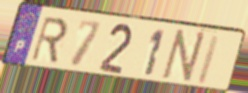1: (145, 29, 166, 79)
2: (97, 23, 133, 76)
7: (68, 19, 103, 69)
I: (194, 33, 223, 87)
N: (159, 28, 208, 86)
R: (29, 16, 69, 66)
